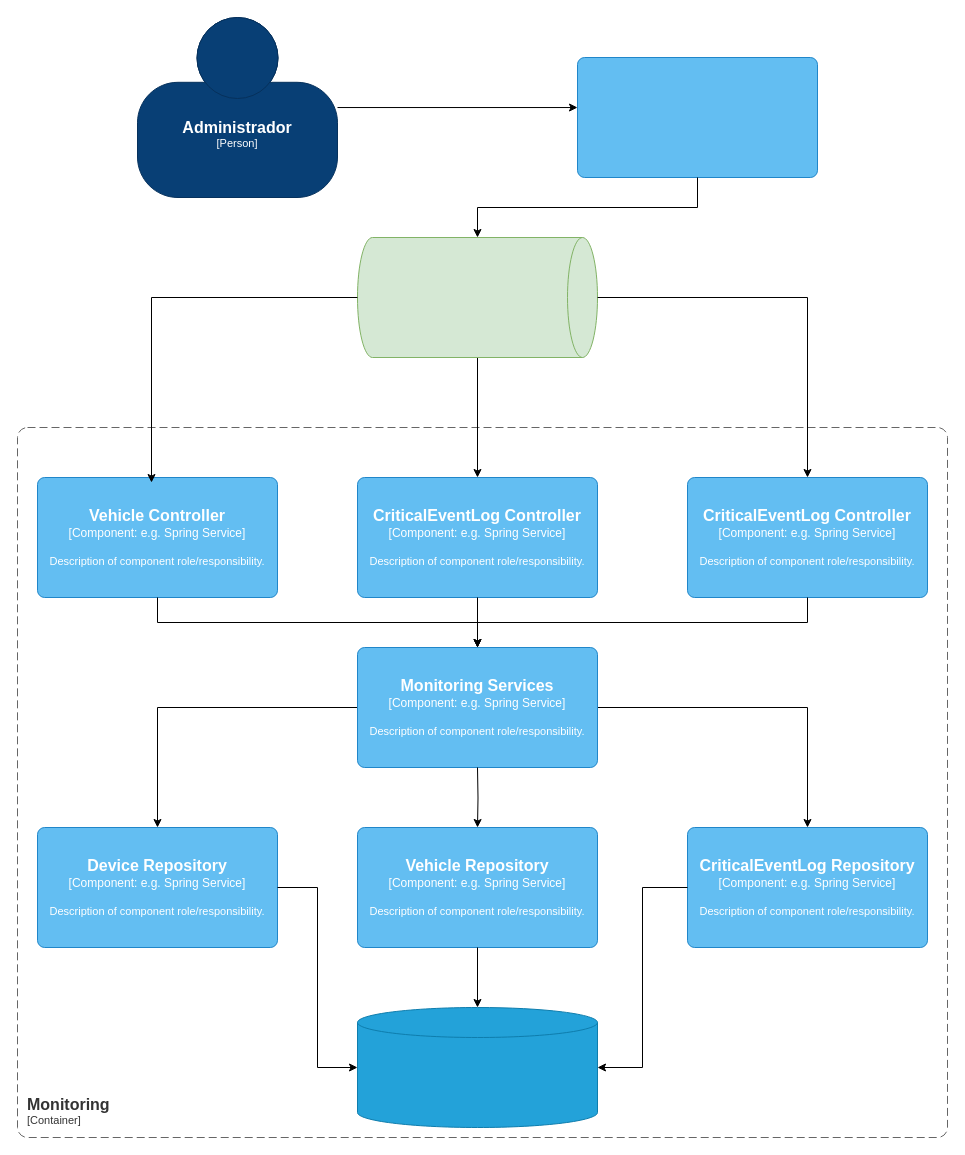
The diagram is 965 pixels wide and 1155 high, and some of its shapes have lost their labels. Each missing label, with the centre of its shape:
Edge Computing [Container: Container]: (x=477, y=297)
Monitoring DB [Container: e.g. Oracle Database 12]: (x=477, y=1067)
REST API MONITORING [Component: ]: (x=697, y=117)
